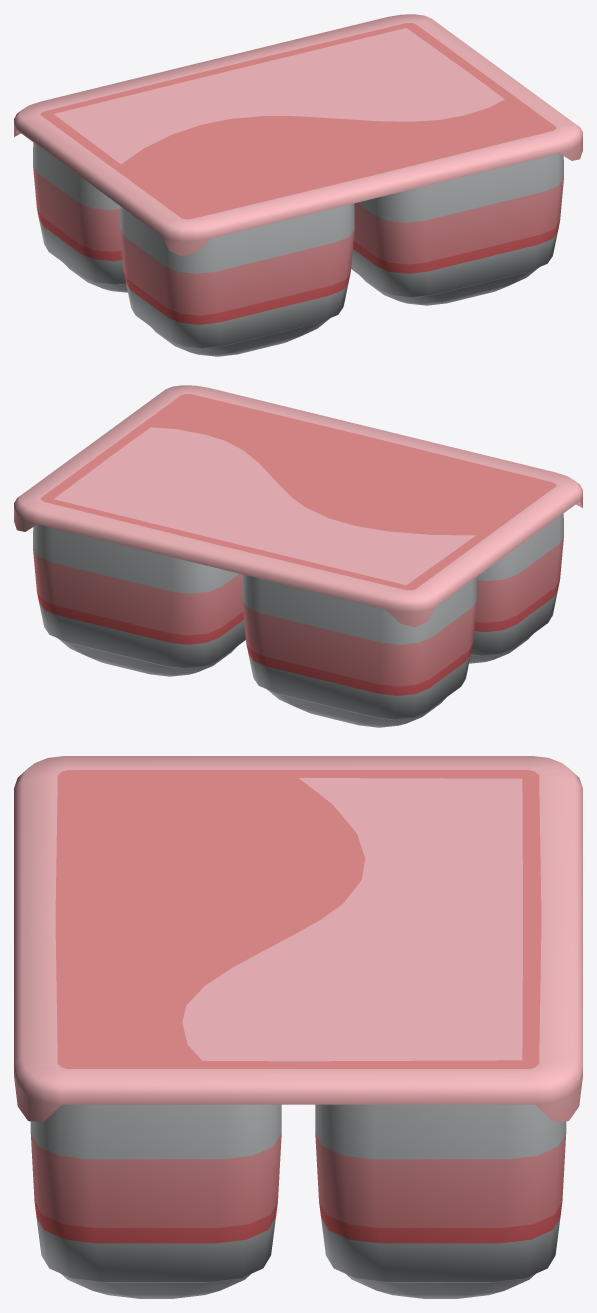
Rendered from yogurt_009.fbx.
3 renders of one model, top to bottom at view 1: azimuth 30°, elevation 25°; view 2: azimuth 150°, elevation 25°; view 3: azimuth 270°, elevation 25°, orthographic. The views are drawn at different scales.
Visible parts, largest first — view 1: yogurt_009; view 2: yogurt_009; view 3: yogurt_009.
Boxes of the visible parts, bbox=[...] form: yogurt_009: bbox=[14, 14, 582, 356]; yogurt_009: bbox=[14, 385, 582, 727]; yogurt_009: bbox=[14, 756, 582, 1298].
Size of the model in its own units: 14.33 by 10.31 by 4.98.
